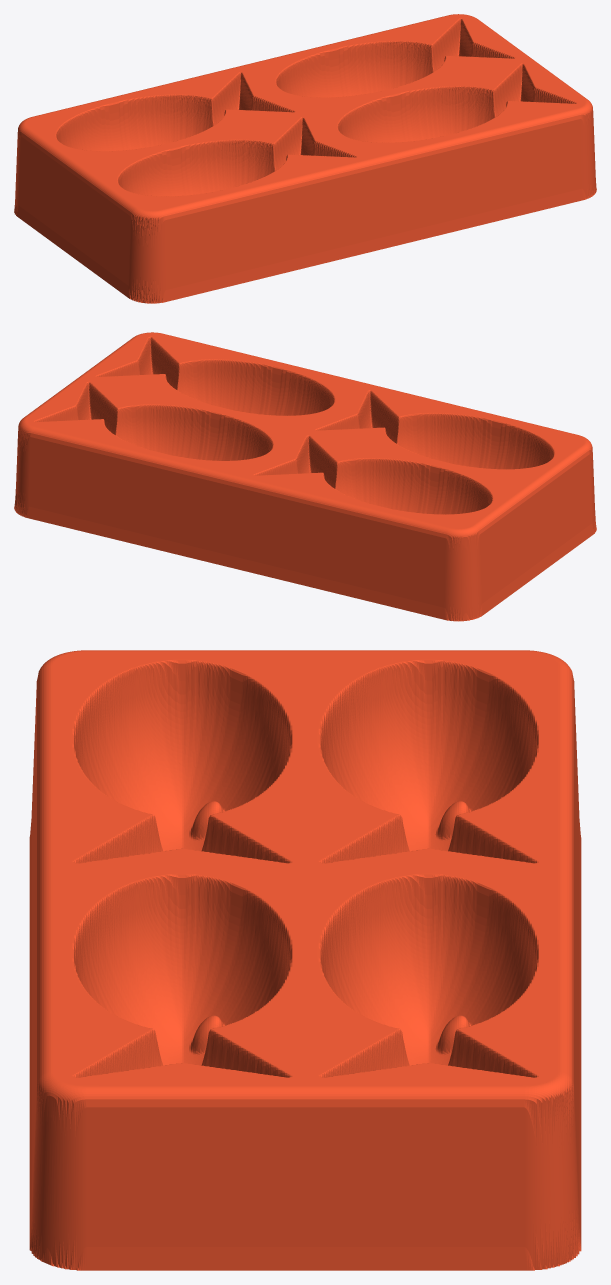
The model's file is mold.glb.
3 renders of one model, top to bottom at view 1: azimuth 30°, elevation 25°; view 2: azimuth 150°, elevation 25°; view 3: azimuth 270°, elevation 25°, orthographic. The views are drawn at different scales.
Visible parts, largest first — view 1: geometry_0; view 2: geometry_0; view 3: geometry_0.
Boxes of the visible parts, x1,y1,x2,y2 form: geometry_0: (14, 14, 596, 303); geometry_0: (14, 332, 596, 621); geometry_0: (29, 650, 581, 1270).
Bounding box in the file's own units: 0.1721 × 0.031 × 0.0885.
